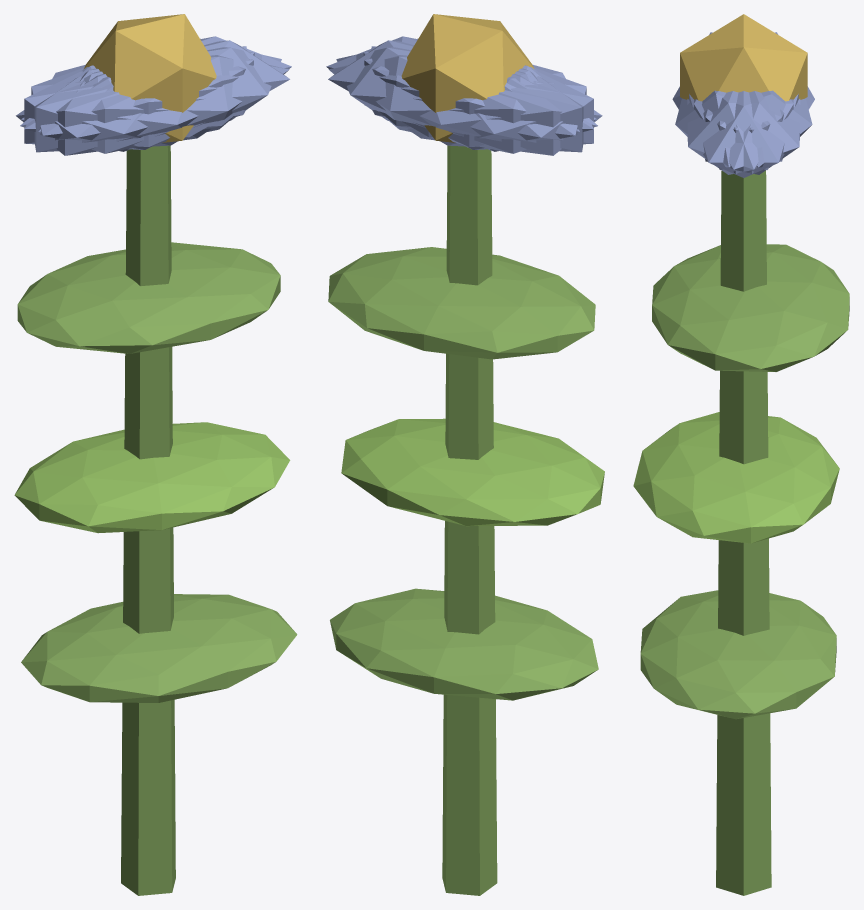
The model's file is ruellia-repens.glb.
3 renders of one model, left to right at view 1: azimuth 30°, elevation 25°; view 2: azimuth 150°, elevation 25°; view 3: azimuth 270°, elevation 25°, orthographic.
Visible parts, largest first — view 1: stem, leaf1, leaf0, leaf2, center, petal1, petal6, petal2, petal5, petal7, petal0, petal4 (+2 smaller); view 2: stem, leaf2, leaf1, leaf0, center, petal8, petal3, petal7, petal4, petal2, petal0, petal5 (+2 smaller); view 3: stem, leaf2, leaf1, leaf0, center, petal0, petal5, petal4, petal8, petal1.
Boxes of the visible parts, x1,y1,x2,y2 form: stem: (121, 145, 175, 895); leaf1: (14, 422, 290, 533); leaf0: (21, 594, 297, 702); leaf2: (17, 242, 280, 353); center: (84, 14, 216, 142); petal1: (20, 55, 289, 153); petal6: (16, 67, 210, 155); petal2: (34, 46, 246, 152); petal5: (38, 47, 281, 146); petal7: (24, 52, 254, 149); petal0: (83, 40, 289, 137); petal4: (21, 36, 291, 129); stem: (442, 145, 497, 895); leaf2: (328, 247, 595, 359); leaf1: (341, 418, 604, 526); leaf0: (330, 588, 598, 700); center: (401, 14, 534, 142); petal8: (328, 55, 597, 153); petal3: (407, 67, 602, 155); petal7: (371, 46, 583, 152); petal4: (336, 47, 579, 146); petal2: (363, 52, 593, 149); petal0: (328, 40, 534, 137); petal5: (326, 36, 596, 129); stem: (716, 170, 771, 895); leaf2: (652, 244, 849, 371); leaf1: (633, 412, 839, 543); leaf0: (640, 590, 836, 719); center: (680, 14, 807, 101); petal0: (689, 91, 798, 177); petal5: (687, 91, 793, 174); petal4: (694, 91, 800, 174); petal8: (703, 90, 812, 167); petal1: (675, 90, 784, 167).
Bounding box in the file's own units: 0.1452 × 0.451 × 0.1036.
